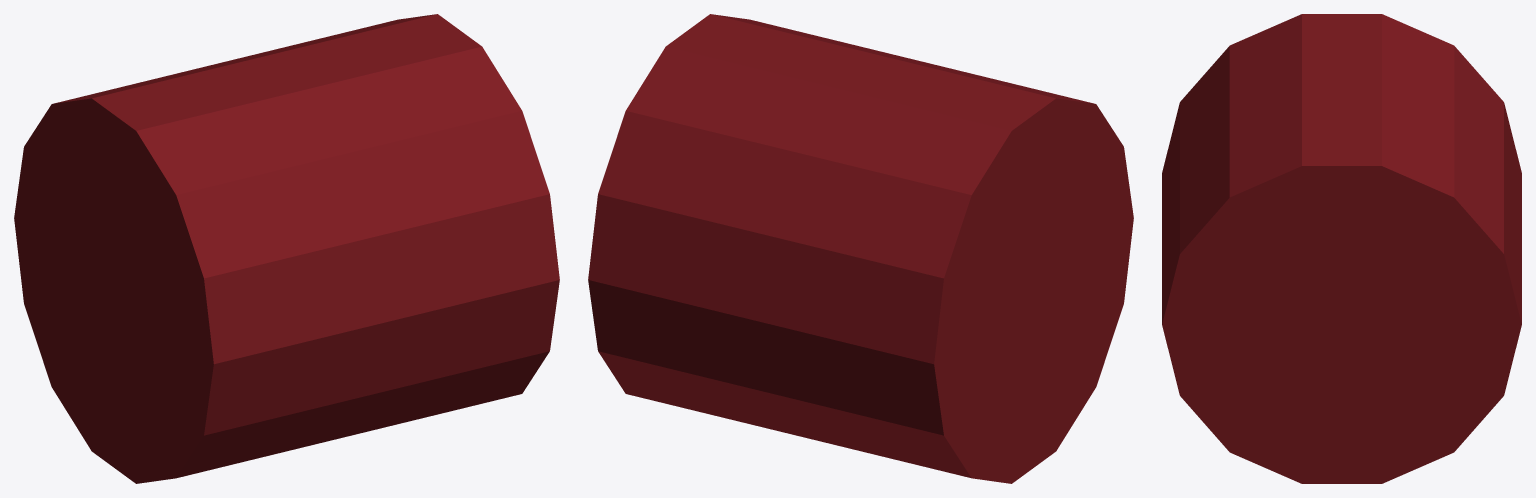
Rendered from ENEMY BARREL CYLDR.fbx.
The picture shows the model from 3 angles, left to right: view 1: azimuth 30°, elevation 25°; view 2: azimuth 150°, elevation 25°; view 3: azimuth 270°, elevation 25°; orthographic projection. The views are drawn at different scales.
Visible parts, largest first — view 1: Cylinder.001; view 2: Cylinder.001; view 3: Cylinder.001.
Boxes of the visible parts, x1,y1,x2,y2 form: Cylinder.001: (14,14,559,483); Cylinder.001: (588,14,1133,483); Cylinder.001: (1162,14,1521,483).
Size of the model in its own units: 71.47 by 69.68 by 71.47.
